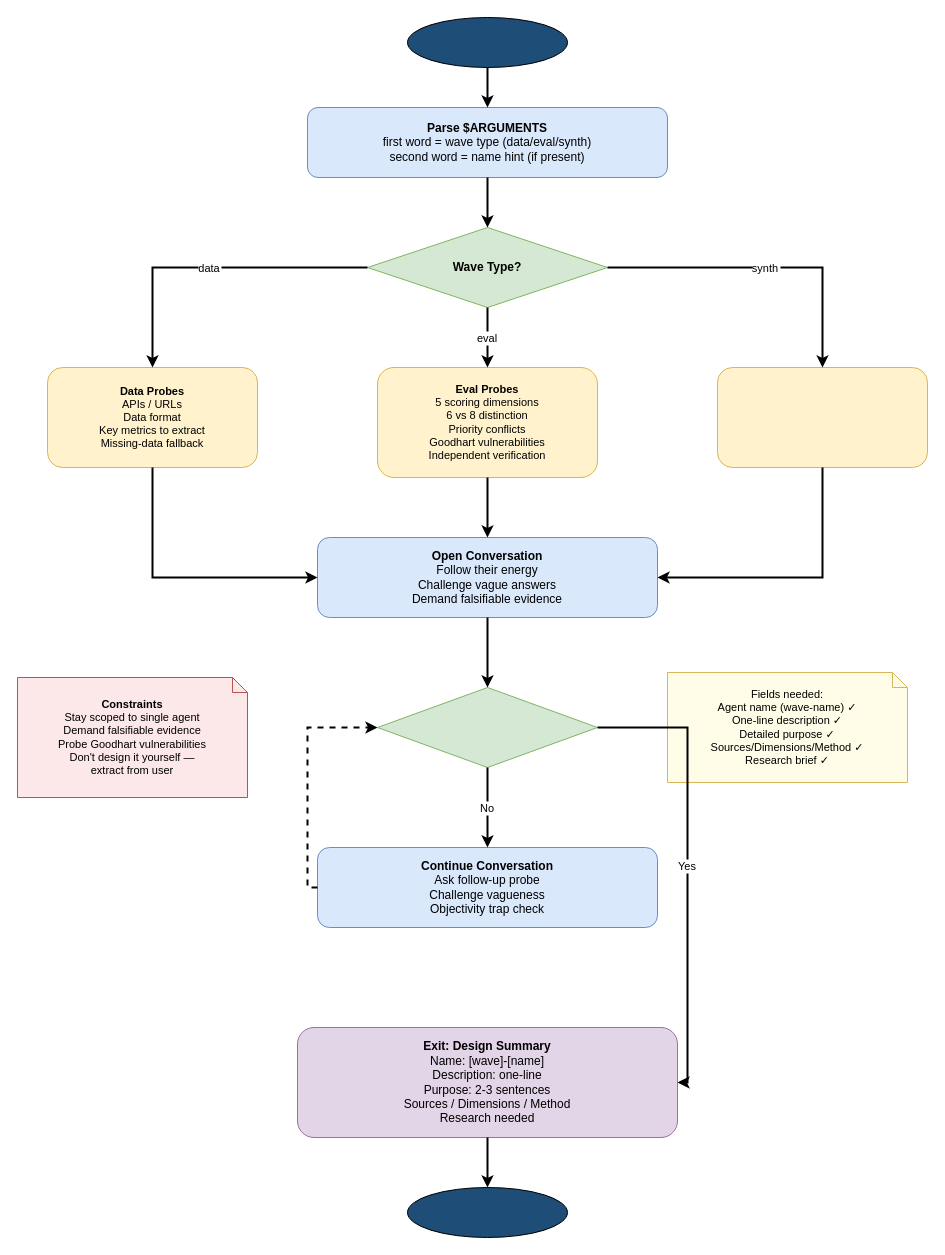
Image size: 945x1255. Some labels were removed from this diagram. The shapes that lost their labels are listed below. From the top down, each one's centre as x and y in pixels, then its label:
At point (487, 42): "START".
At point (822, 417): "Synth Probes Audience & decision Output structure Handling disagreement".
At point (487, 727): "All fields complete?".
At point (487, 1212): "END".
